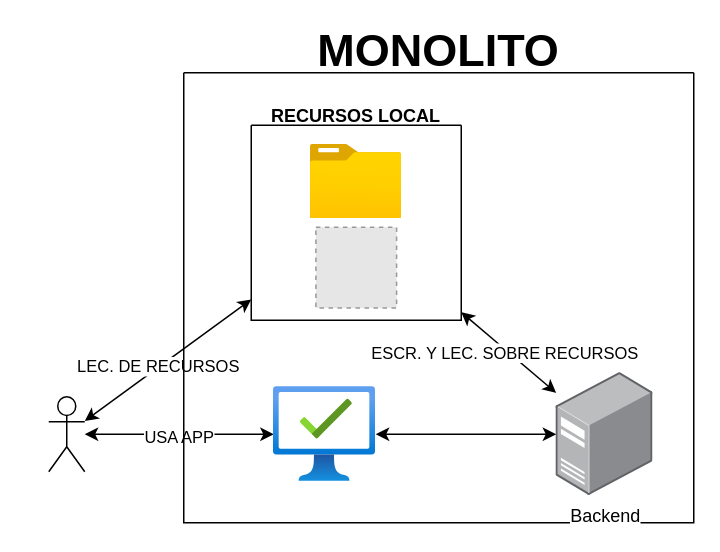
Some shapes in this 720 by 552 pixel diagram are drawn without their labels. Grey dashed boxes stand in for pictures. Each missing label, with the box of its shape:
Interfaz APP: (273, 386, 375, 481)
USUARIO: (47, 395, 85, 472)
